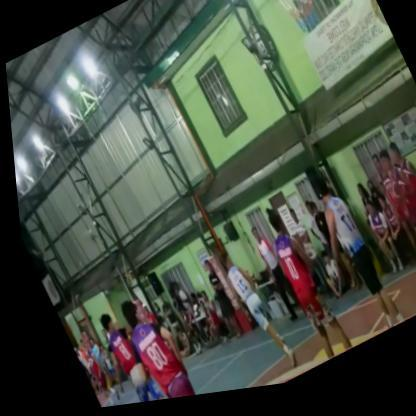basketball: (382, 184, 401, 211)
rim: (256, 0, 334, 57)
